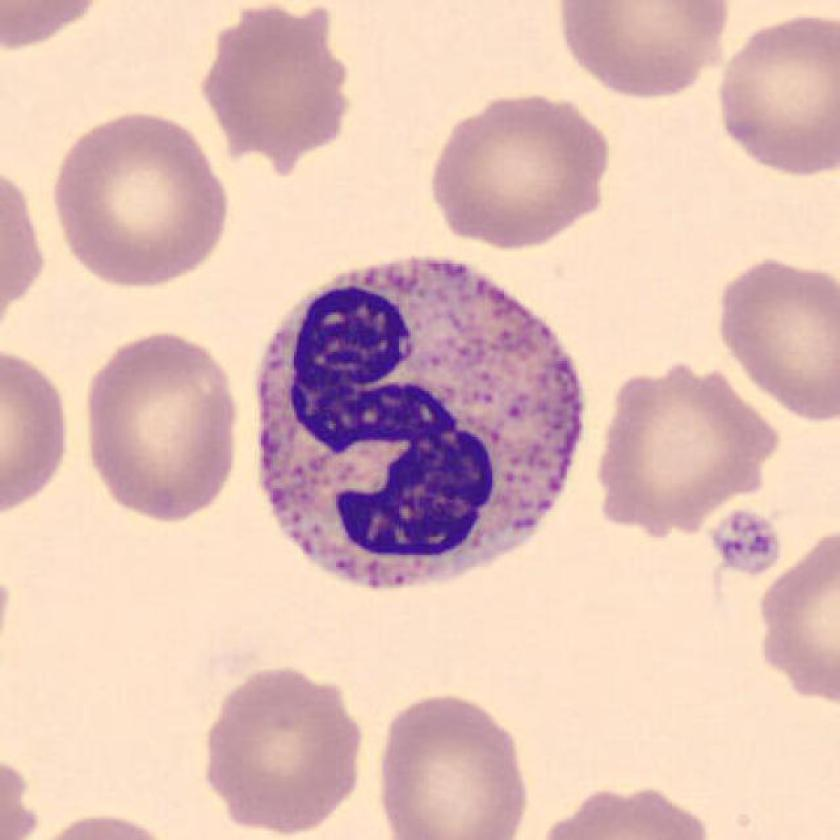neutrophil: (256, 258, 581, 585)
